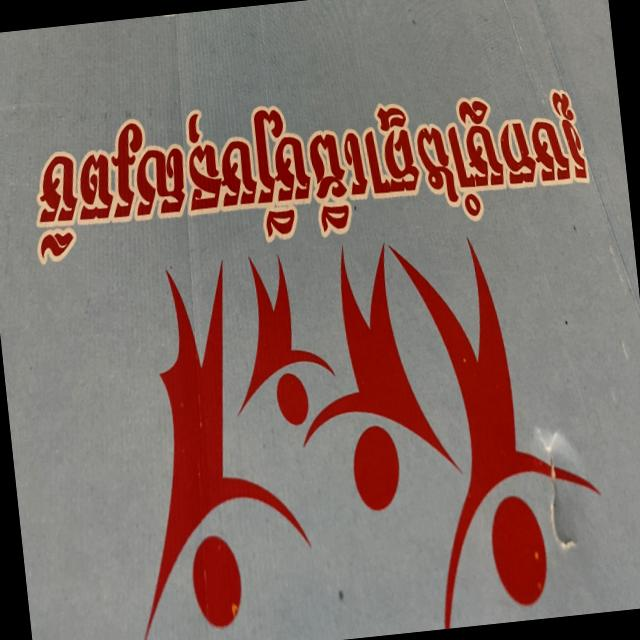Yolov11kh: (25, 74, 597, 281)
